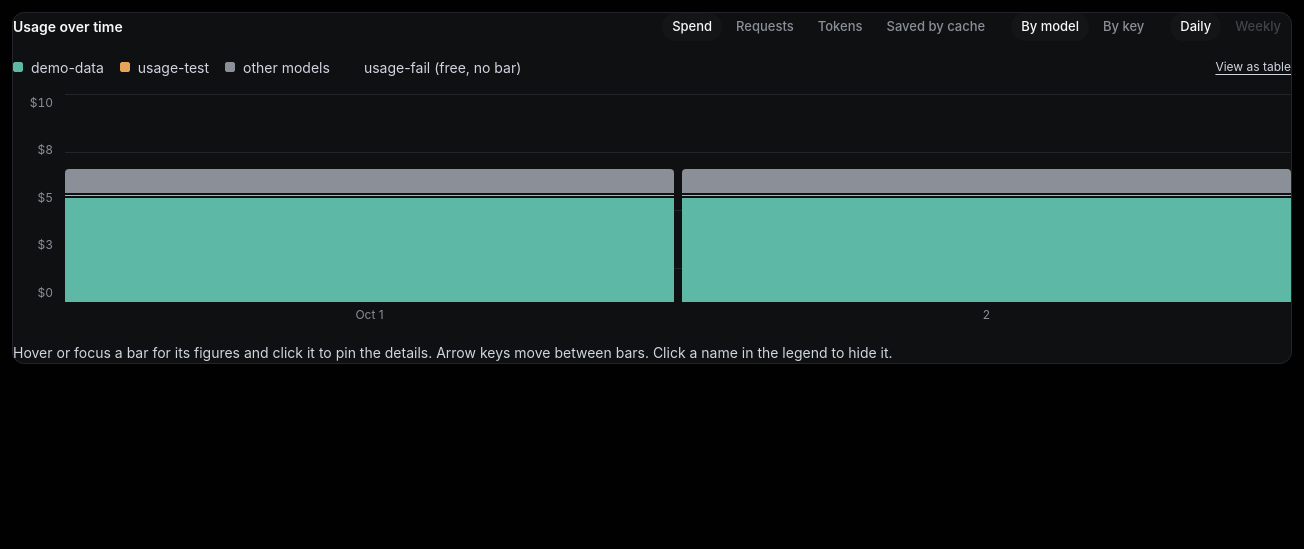
UsageChart › keeps the legend and the pinned details short when there are very many keys
The width and height of the screenshot is (1304, 549).
Click the button "By key".
click(1124, 27)  # box [1093, 13, 1154, 40]
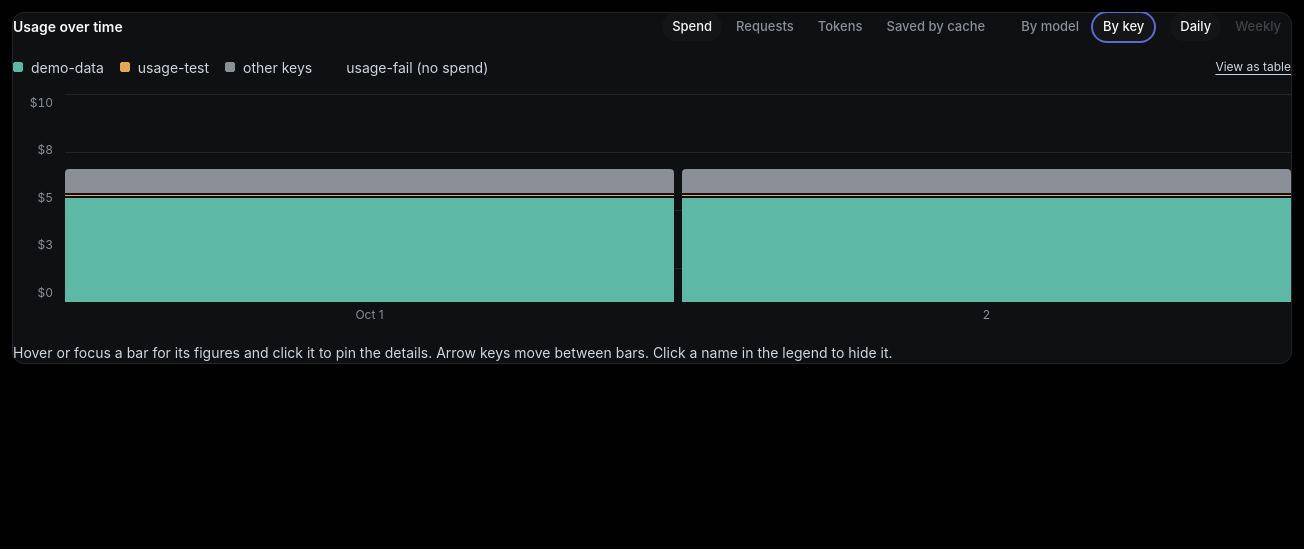
expect the text "usage-fail (no spend)" is shown once: met, box [328, 56, 488, 78]
expect the text "usage-fail (no spend)" is shown: met, box [328, 56, 488, 78]
Click the button named "Oct 1: $6.20 spent (demo-data $5.00, usage-test $0.03, other".
click(370, 198)  # box [65, 94, 674, 302]
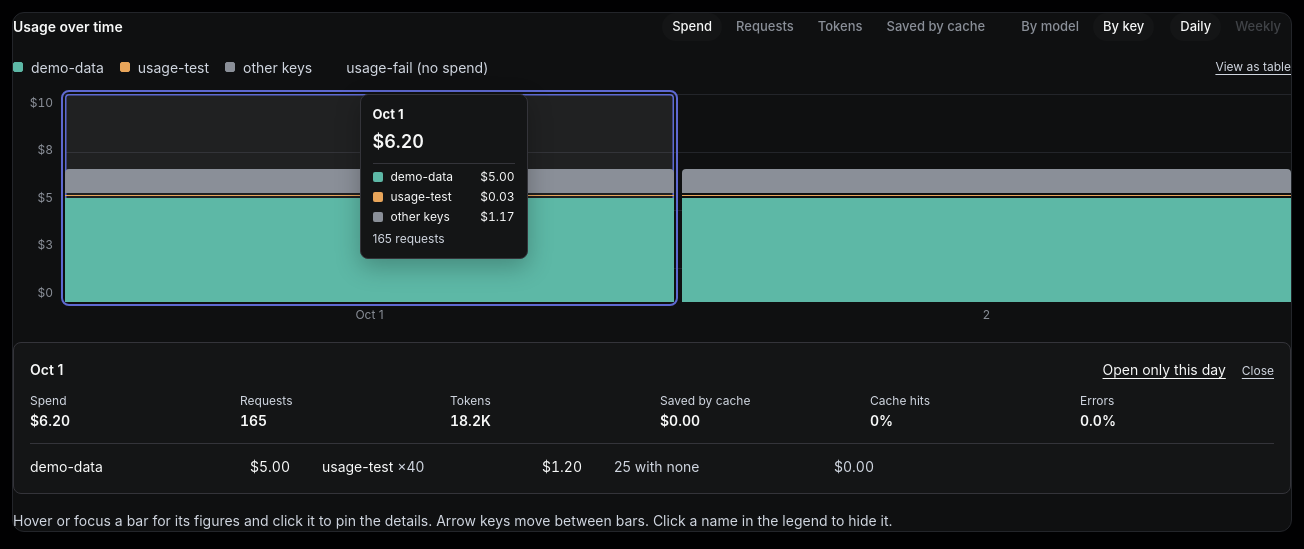
expect the text "usage-test" is shown: met, box [322, 458, 393, 474]
expect the text "×40" is shown: met, box [393, 458, 424, 474]
expect the text "25 with none" is shown: met, box [614, 456, 700, 476]
